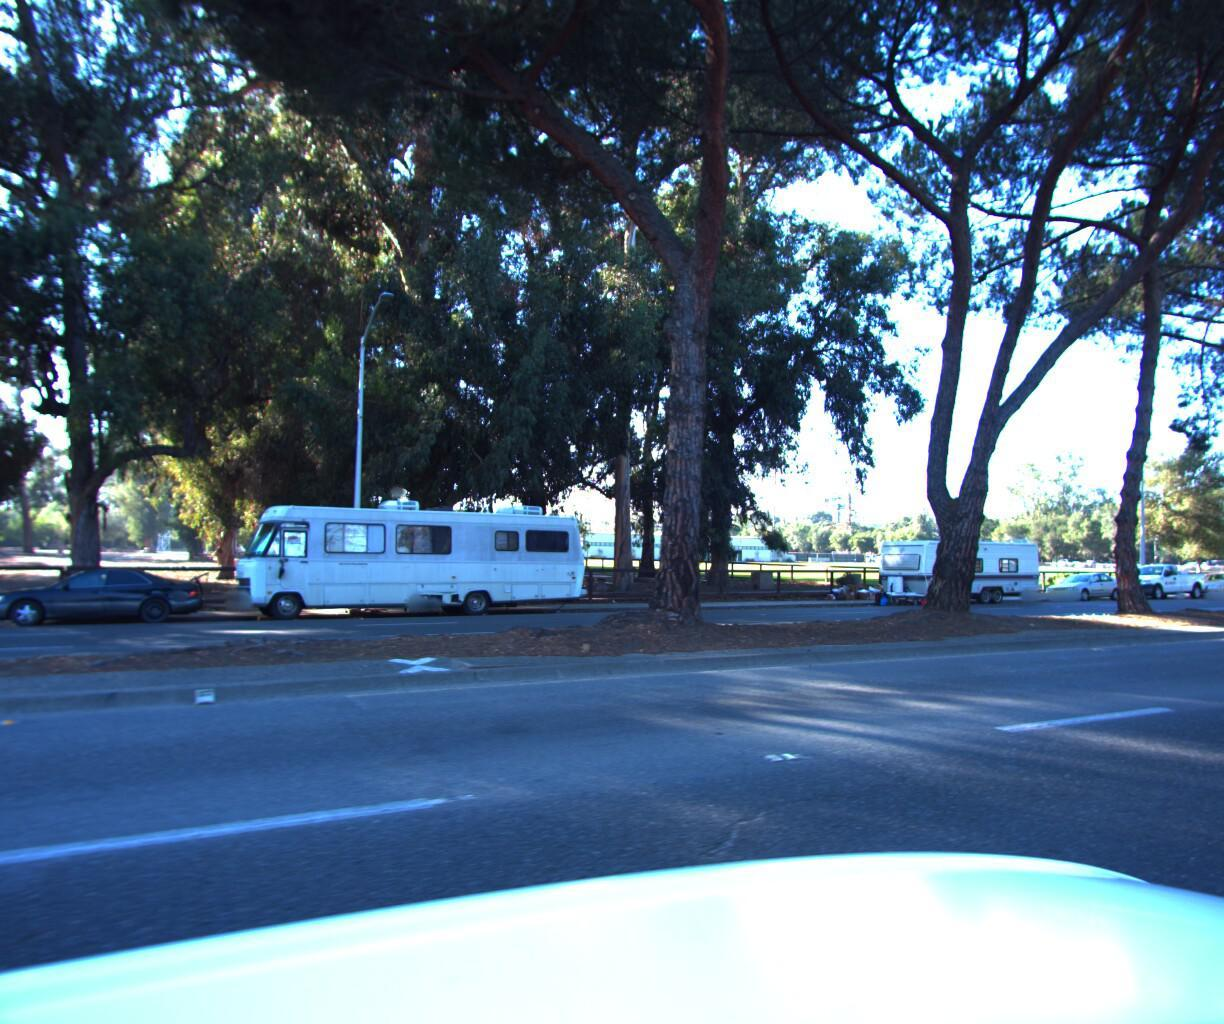car: (0, 569, 209, 633), (1102, 559, 1207, 601), (1034, 570, 1126, 603), (1179, 569, 1224, 600)
other_vehicle: (220, 485, 593, 623), (858, 530, 1046, 605)
